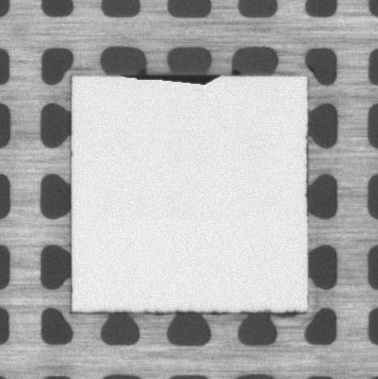DIE_BROKEN: (125, 69, 223, 86)
